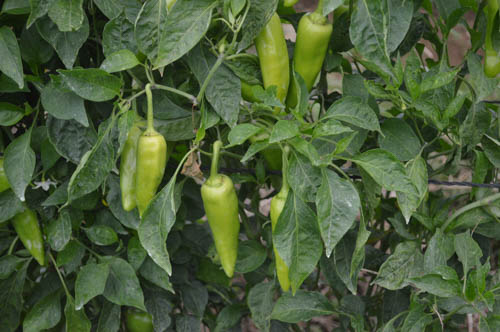ChiliPepper: (1, 168, 45, 263), (203, 179, 241, 277), (257, 13, 291, 104), (290, 18, 323, 107), (137, 135, 166, 215), (271, 195, 293, 291), (120, 128, 141, 217)
